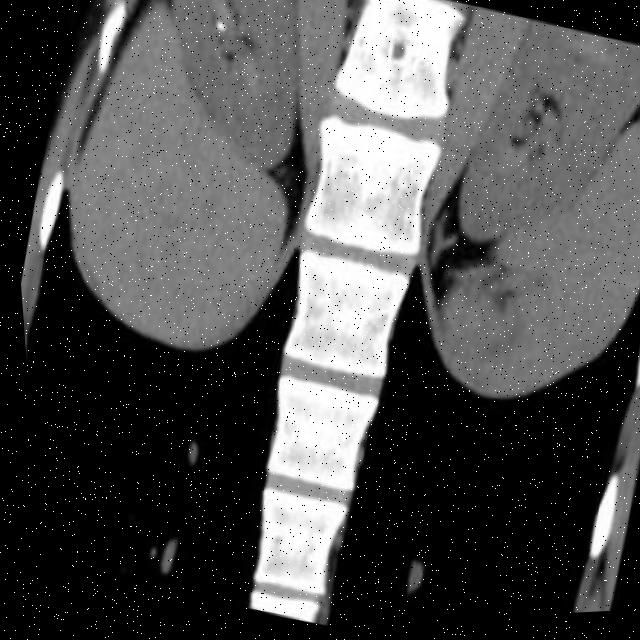Tas_Var: (207, 16, 231, 44)
